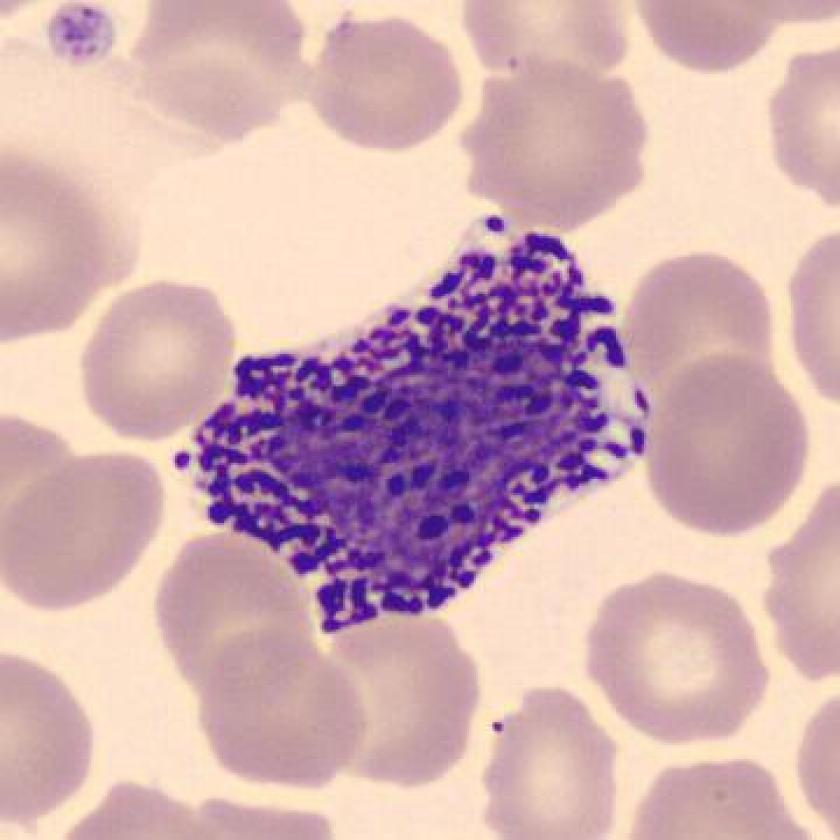basophil: (178, 223, 685, 649)
